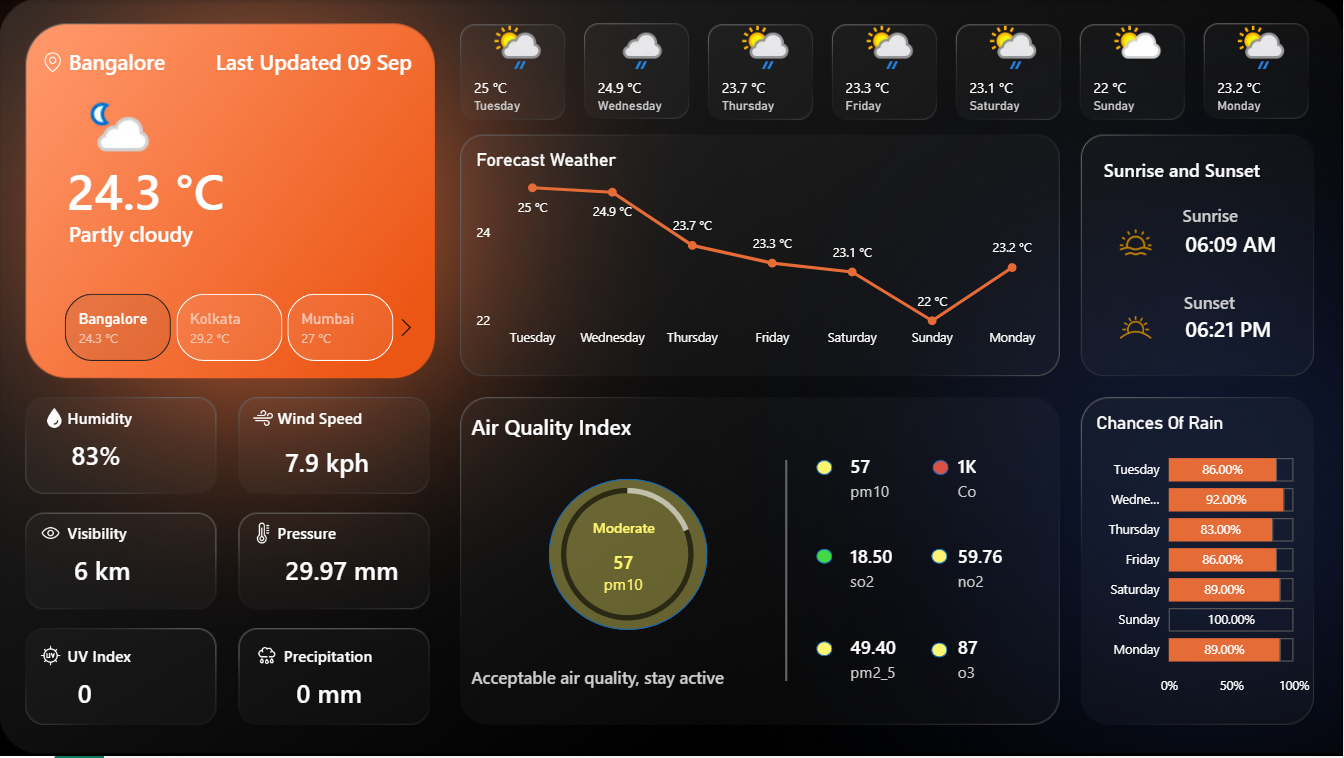

What the dashboard file says about the page in this screenshot:
{"tool":"powerbi","page":{"name":"Page 1","canvas":[1280,720],"ordinal":0},"visuals":[{"type":"advancedSlicerVisual","fields":{"Values":["Locations.location.name"]},"box":[37,274.4,365,74.1],"z":0},{"type":"shape","box":[48,118,182.5,126.2],"z":1000},{"type":"shape","box":[65.9,189.4,182.5,64.5],"z":2000},{"type":"shape","box":[65.7,26.7,152,64.4],"z":3000},{"type":"shape","box":[192.1,26.7,200.6,64.4],"z":4000},{"type":"image","box":[28,45,45,28],"z":5000},{"type":"cardVisual","fields":{"Data":["Min(Current.current.condition.icon)"]},"box":[51.1,62,114.3,136.2],"z":6000},{"type":"image","box":[31.6,382.8,39.8,30.2],"z":7000},{"type":"image","box":[28.8,492.6,39.8,30.2],"z":8000},{"type":"image","box":[28.8,609.3,39.8,30.2],"z":9000},{"type":"image","box":[230.5,382.8,39.8,30.2],"z":10000},{"type":"image","box":[230.5,492.6,39.8,30.2],"z":11000},{"type":"image","box":[234.6,609.3,39.8,30.2],"z":12000},{"type":"shape","box":[64.5,373.2,137.2,49.4],"z":13000},{"type":"shape","box":[64.5,483,137.2,49.4],"z":14000},{"type":"shape","box":[64.5,599.7,137.2,49.4],"z":15000},{"type":"shape","box":[270.3,599.7,137.2,49.4],"z":16000},{"type":"shape","box":[264.8,483,137.2,49.4],"z":17000},{"type":"shape","box":[264.8,373.2,137.2,49.4],"z":18000},{"type":"cardVisual","fields":{"Data":["_Measures.Humidity"]},"box":[51.2,392.9,90.5,59.5],"z":19000},{"type":"cardVisual","fields":{"Data":["_Measures.visibility"]},"box":[54,502.6,111.8,60.3],"z":20000},{"type":"cardVisual","fields":{"Data":["Sum(Current.current.uv)"]},"box":[57.1,618.8,85.1,60.8],"z":21000},{"type":"cardVisual","fields":{"Data":["_Measures.precipitation"]},"box":[265.1,619.4,119.4,60.3],"z":22000},{"type":"cardVisual","fields":{"Data":["_Measures.pressure"]},"box":[255,502.6,168.4,60.3],"z":23000},{"type":"cardVisual","fields":{"Data":["_Measures.wind speed"]},"box":[255,398.3,152,69.1],"z":24000},{"type":"advancedSlicerVisual","fields":{"Values":["Forecast by day.day_name"]},"box":[432.8,10.9,831,122],"z":25000},{"type":"lineChart","title":"Forecast Weather","fields":{"Y":["Sum(Forecast by day.forecast.forecastday.day.avgtemp_c)"],"Category":["Forecast by day.day_name"]},"box":[448.6,142.2,550.8,198.2],"z":26000},{"type":"shape","box":[1051.7,130.1,200.6,64.4],"z":27000},{"type":"cardVisual","fields":{"Data":["Min(Forecast by day.sunrise_date)"]},"box":[1112.5,194.5,125.2,59.6],"z":28000},{"type":"cardVisual","fields":{"Data":["Min(Forecast by day.sunset_date)"]},"box":[1112.5,274.8,125.2,59.6],"z":29000},{"type":"shape","box":[1125.8,179.9,137.4,49.8],"z":30000},{"type":"shape","box":[1127.1,261.4,137.4,49.8],"z":31000},{"type":"image","box":[1051.7,286.9,60.8,49.8],"z":32000},{"type":"image","box":[1051.7,210.3,60.8,40.1],"z":33000},{"type":"hundredPercentStackedBarChart","title":"Chances Of Rain","fields":{"Y":["Sum(Forecast by day.forecast.forecastday.day.daily_chance_of_rain)","_Measures.left_val_rain"],"Category":["Forecast by day.day_name"]},"box":[1039.5,392.7,212.8,278.4],"z":34000},{"type":"shape","box":[448.6,373.3,200.6,64.4],"z":35000},{"type":"cardVisual","fields":{"Data":["Sum(Current.current.air_quality.co)"]},"box":[894.7,415.5,92.3,73.6],"z":36000},{"type":"cardVisual","fields":{"Data":["Sum(Current.current.air_quality.no2)"]},"box":[894.7,501.6,92.3,73.6],"z":37000},{"type":"cardVisual","fields":{"Data":["Sum(Current.current.air_quality.o3)"]},"box":[894.7,587.7,92.3,73.6],"z":38000},{"type":"cardVisual","fields":{"Data":["Sum(Current.current.air_quality.pm2_5)"]},"box":[792.4,587.7,92.3,73.6],"z":39000},{"type":"cardVisual","fields":{"Data":["Sum(Current.current.air_quality.so2)"]},"box":[792.4,501.6,92.3,73.6],"z":40000},{"type":"cardVisual","fields":{"Data":["Sum(Current.current.air_quality.pm10)"]},"box":[792.4,415.5,92.3,73.6],"z":41000},{"type":"shape","box":[777.4,438.1,15.5,14.3],"z":42000},{"type":"shape","box":[777.4,522.6,15.5,14.3],"z":43000},{"type":"shape","box":[777.4,610.7,15.5,14.3],"z":44000},{"type":"shape","box":[886.9,611.9,15.5,14.3],"z":45000},{"type":"shape","box":[886.9,522.6,15.5,14.3],"z":46000},{"type":"shape","box":[888.1,438.1,15.5,14.3],"z":47000},{"type":"cardVisual","fields":{"Data":["Sum(Current.current.air_quality.pm10)"]},"box":[547.6,492.9,92.9,82.1],"z":48000},{"type":"shape","box":[673.8,438.1,150,210.7],"z":49000},{"type":"shape","box":[522.6,456,151.2,144],"z":49500},{"type":"donutChart","fields":{"Y":["Sum(Current.current.air_quality.pm10)","_Measures.LEFT_VALUE"]},"box":[496.4,444,202.4,167.9],"z":50000},{"type":"shape","box":[448.8,611.9,284.5,64.3],"z":50001}]}

Visuals, with their boxes in screenshot pixels (x1, y1, x2, y2), scaled from the page's 1280x720 canvas onto the 1344x758 screenshot:
advancedSlicerVisual - Locations.location.name: 39,289,422,367
shape: 50,124,242,257
shape: 69,199,261,267
shape: 69,28,229,96
shape: 202,28,412,96
image: 29,47,77,77
cardVisual - Min(Current.current.condition.icon): 54,65,174,209
image: 33,403,75,435
image: 30,519,72,550
image: 30,641,72,673
image: 242,403,284,435
image: 242,519,284,550
image: 246,641,288,673
shape: 68,393,212,445
shape: 68,508,212,560
shape: 68,631,212,683
shape: 284,631,428,683
shape: 278,508,422,560
shape: 278,393,422,445
cardVisual - _Measures.Humidity: 54,414,149,476
cardVisual - _Measures.visibility: 57,529,174,593
cardVisual - Sum(Current.current.uv): 60,651,149,715
cardVisual - _Measures.precipitation: 278,652,404,716
cardVisual - _Measures.pressure: 268,529,445,593
cardVisual - _Measures.wind speed: 268,419,427,492
advancedSlicerVisual - Forecast by day.day_name: 454,11,1327,140
"Forecast Weather" lineChart: 471,150,1049,358
shape: 1104,137,1315,205
cardVisual - Min(Forecast by day.sunrise_date): 1168,205,1300,268
cardVisual - Min(Forecast by day.sunset_date): 1168,289,1300,352
shape: 1182,189,1326,242
shape: 1183,275,1328,328
image: 1104,302,1168,354
image: 1104,221,1168,264
"Chances Of Rain" hundredPercentStackedBarChart: 1091,413,1315,707
shape: 471,393,682,461
cardVisual - Sum(Current.current.air_quality.co): 939,437,1036,515
cardVisual - Sum(Current.current.air_quality.no2): 939,528,1036,606
cardVisual - Sum(Current.current.air_quality.o3): 939,619,1036,696
cardVisual - Sum(Current.current.air_quality.pm2_5): 832,619,929,696
cardVisual - Sum(Current.current.air_quality.so2): 832,528,929,606
cardVisual - Sum(Current.current.air_quality.pm10): 832,437,929,515
shape: 816,461,833,476
shape: 816,550,833,565
shape: 816,643,833,658
shape: 931,644,948,659
shape: 931,550,948,565
shape: 933,461,949,476
cardVisual - Sum(Current.current.air_quality.pm10): 575,519,673,605
shape: 707,461,865,683
shape: 549,480,707,632
donutChart - Sum(Current.current.air_quality.pm10) x _Measures.LEFT_VALUE: 521,467,734,644
shape: 471,644,770,712
